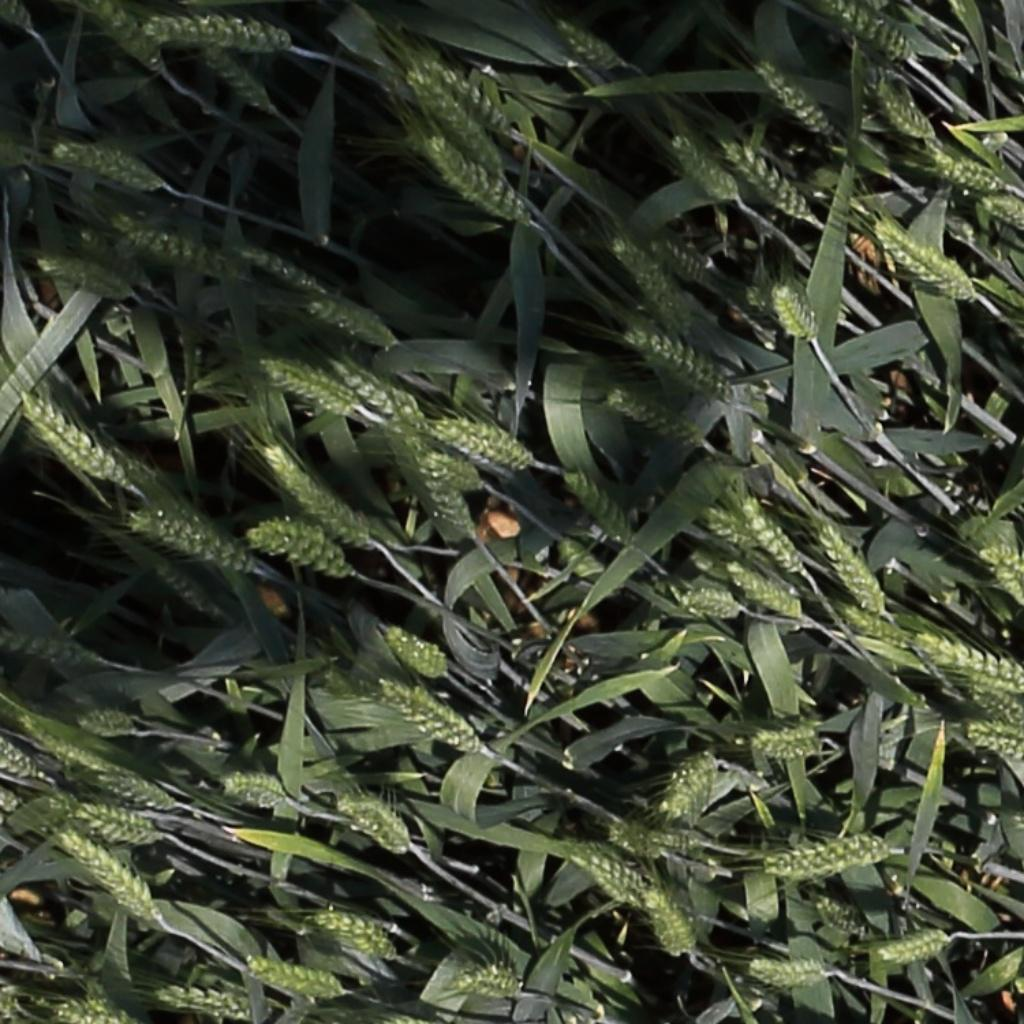0-0: (259, 439, 375, 548), (401, 70, 510, 184), (565, 841, 701, 922), (17, 391, 128, 488), (418, 135, 532, 225), (58, 829, 160, 926), (420, 57, 526, 150), (382, 678, 492, 759), (911, 626, 1024, 702), (874, 220, 977, 302), (610, 230, 690, 335), (720, 141, 817, 227), (811, 516, 888, 619), (70, 0, 171, 77), (110, 215, 236, 274), (339, 361, 435, 432), (15, 712, 122, 775), (129, 510, 249, 566), (248, 518, 356, 580), (753, 58, 835, 139), (55, 139, 171, 195), (142, 14, 295, 56), (737, 492, 808, 581), (561, 466, 636, 547), (625, 329, 724, 389), (412, 439, 476, 531), (432, 415, 536, 471), (765, 833, 896, 877), (265, 356, 369, 411), (199, 46, 276, 117), (667, 129, 740, 202), (68, 795, 167, 847), (334, 790, 412, 855), (310, 911, 401, 966), (244, 950, 346, 999), (829, 0, 915, 58), (604, 390, 699, 441), (660, 747, 726, 819), (724, 563, 804, 621), (875, 83, 943, 145), (641, 884, 698, 957), (925, 144, 1007, 193), (605, 820, 709, 858), (307, 302, 393, 347), (154, 555, 218, 615), (2, 633, 105, 669), (76, 229, 144, 283), (277, 371, 354, 417), (92, 770, 176, 812), (243, 243, 321, 288), (382, 624, 448, 677), (452, 955, 528, 1001), (767, 278, 819, 345), (977, 538, 1024, 611), (558, 19, 625, 70), (216, 767, 288, 813), (39, 259, 128, 296), (154, 985, 256, 1017), (421, 449, 486, 494), (746, 953, 829, 988), (875, 930, 958, 964), (841, 606, 909, 647), (967, 716, 1024, 762), (752, 725, 825, 760), (674, 588, 746, 621), (74, 702, 143, 736), (51, 997, 133, 1024), (704, 509, 757, 548), (815, 898, 869, 936), (0, 733, 44, 779), (980, 193, 1024, 233), (0, 0, 35, 34), (1007, 816, 1024, 841)
